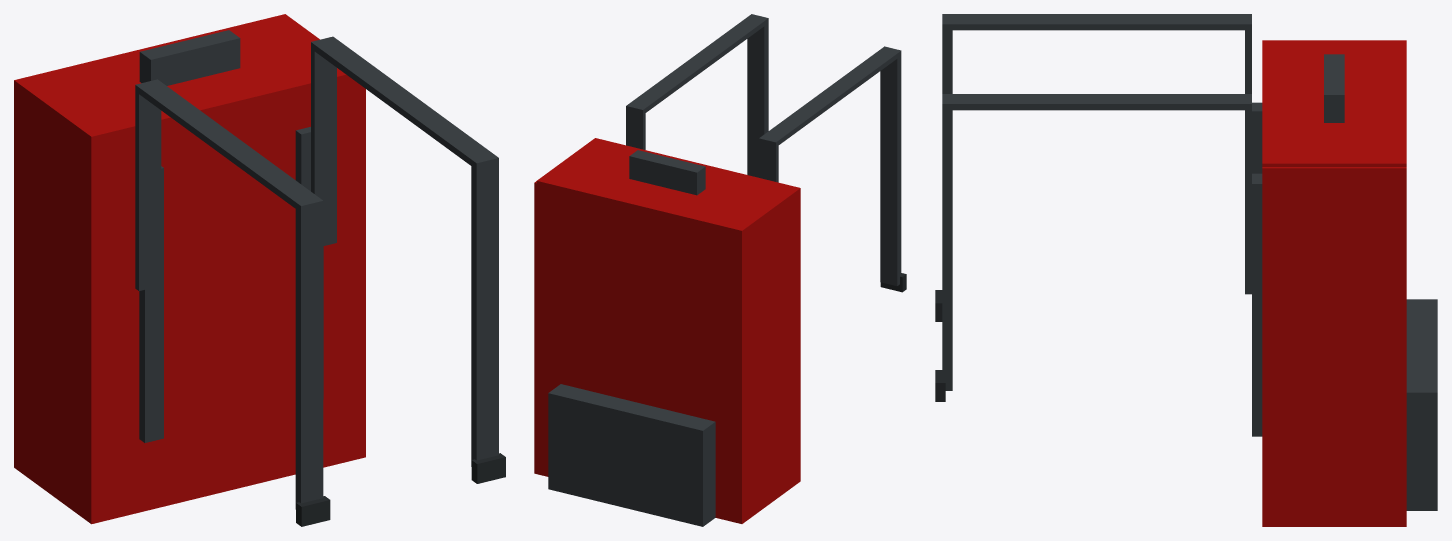
The model's file is school_backpack_worn_jacket.glb.
3 renders of one model, left to right at view 1: azimuth 30°, elevation 25°; view 2: azimuth 150°, elevation 25°; view 3: azimuth 270°, elevation 25°, orthographic. The views are drawn at different scales.
Parts seen in each view (by area): view 1: bag:bag, straps:straps; view 2: bag:bag, straps:straps; view 3: bag:bag, straps:straps.
Part boxes in pixels (x1,y1,x2,y2): bag:bag: (14, 14, 365, 524); straps:straps: (135, 36, 505, 526); bag:bag: (534, 138, 800, 526); straps:straps: (626, 14, 906, 292); bag:bag: (1252, 40, 1437, 526); straps:straps: (935, 14, 1251, 401).
Bounding box in the file's own units: 0.344 × 0.52 × 0.584.
